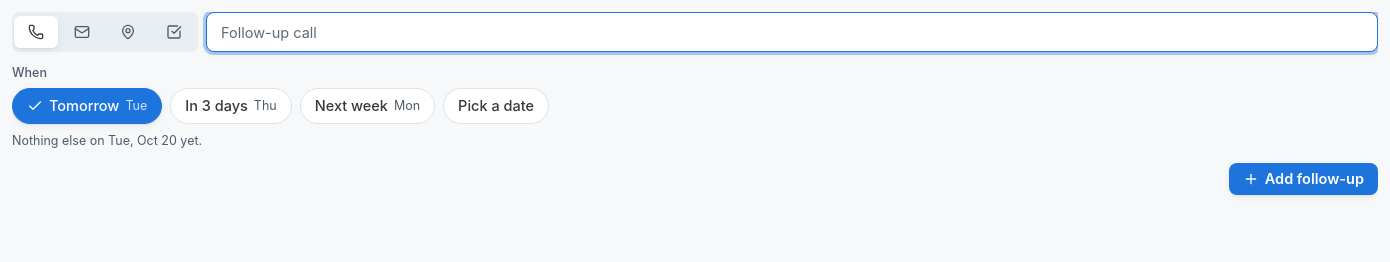
Scenario: TaskQuickAdd › explains a rep writing to someone else’s lead
Click the button "Add follow-up". click: (1303, 179)
box: [1229,163,1378,195]
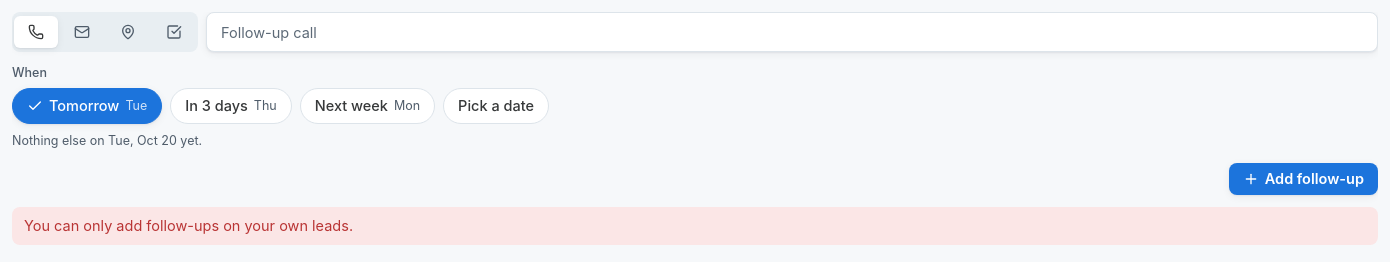
expect the message reads "You can only add follow-ups on your own leads.": met, box [24,217,353,234]
